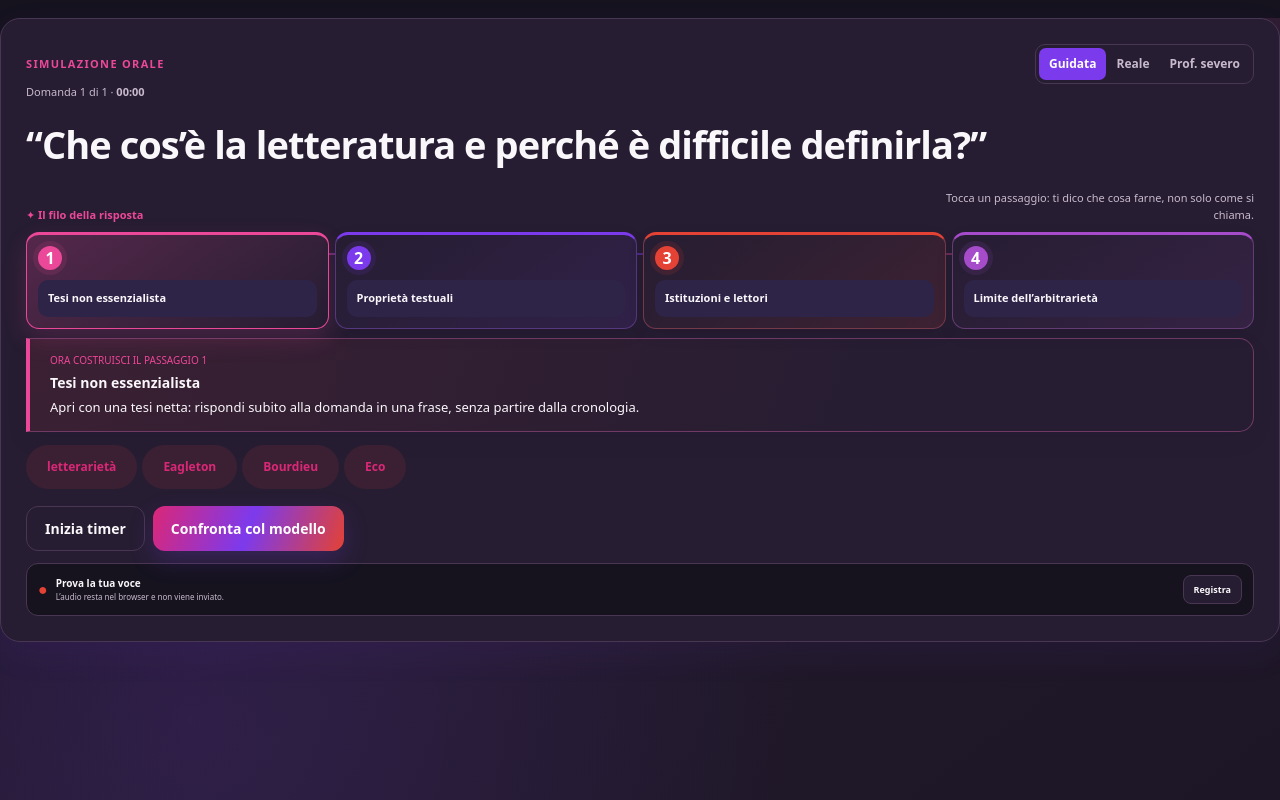
Test: supporti della simulazione orale › spiega le parole fucsia al tap e rende esplorabile la scaletta
The width and height of the screenshot is (1280, 800).
Click the button "letterarietà": point(82, 467) [35, 450, 128, 484]
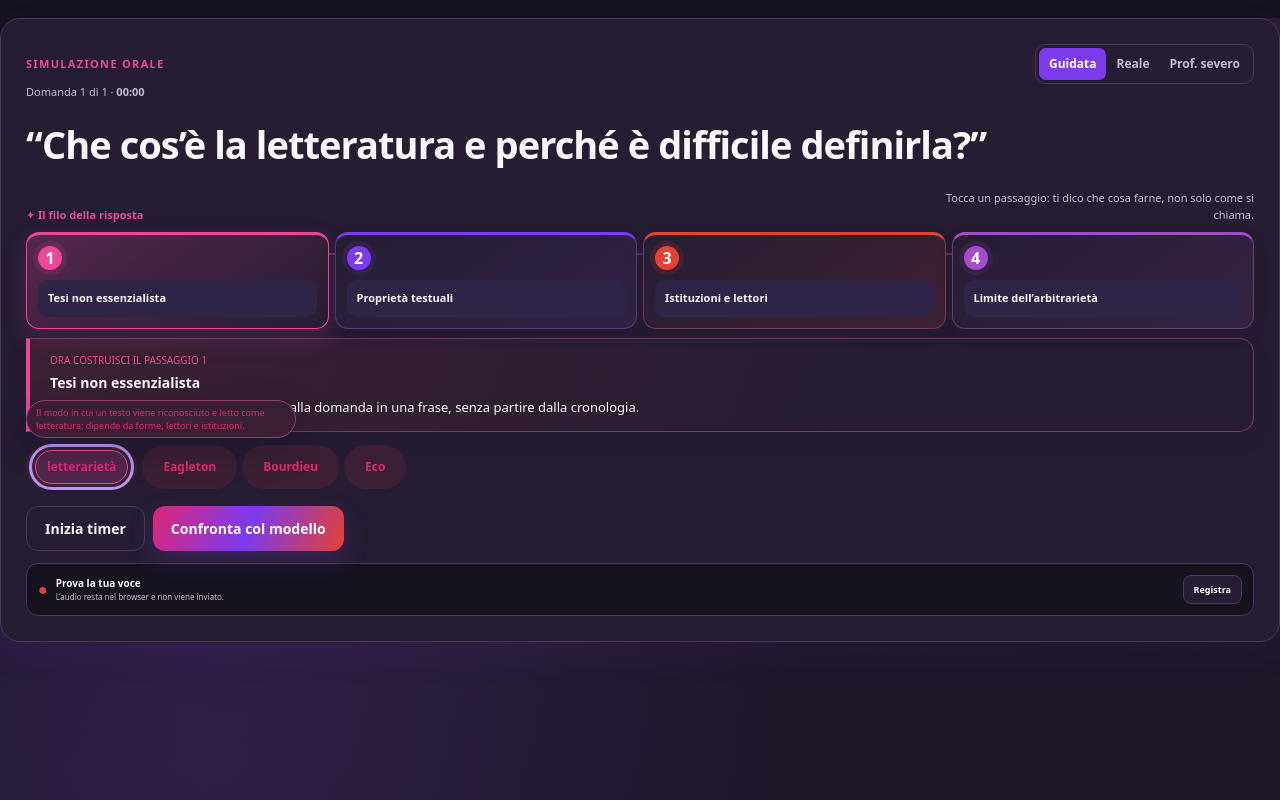
Expected: the button "letterarietà" is expanded, [35, 450, 128, 484]
Expected: the tooltip "riconosciuto e letto come letteratura" is shown, [36, 406, 264, 432]
Click the button "2 Proprietà testuali": point(486, 280) [334, 232, 637, 328]
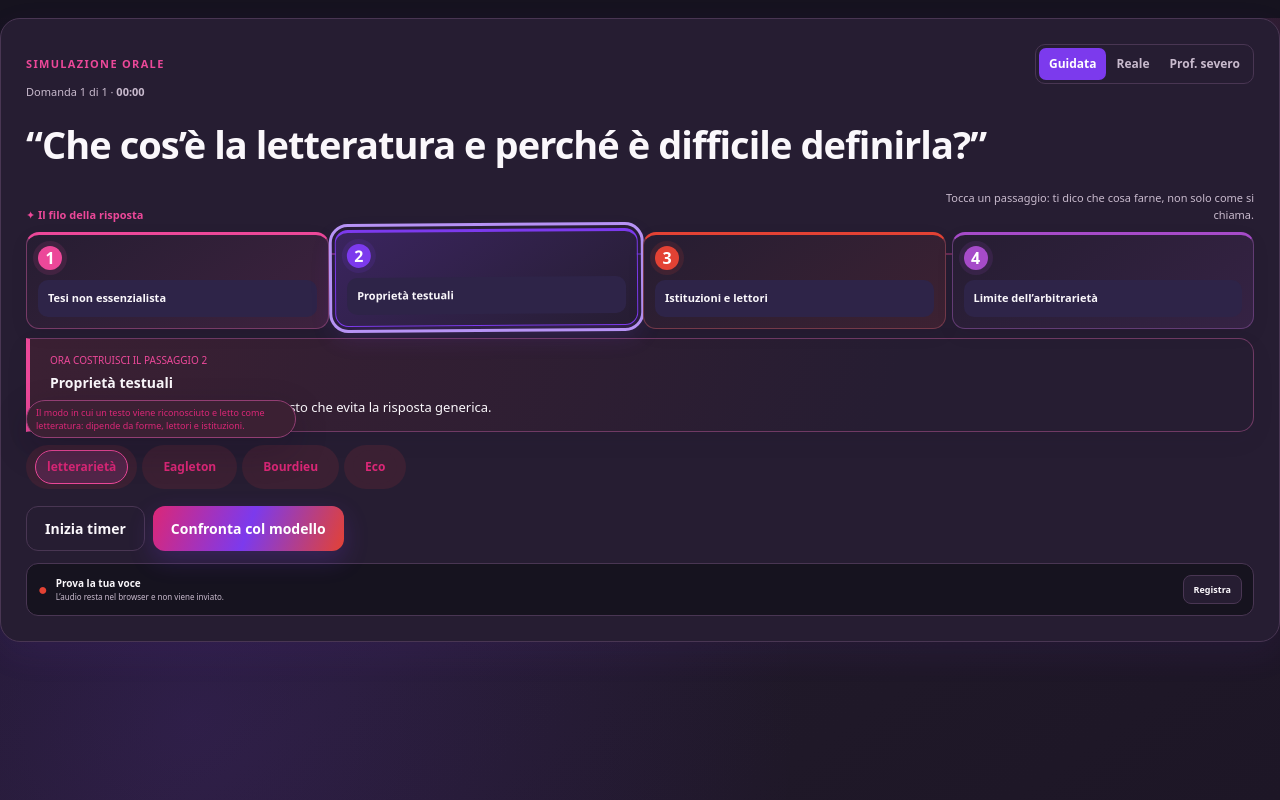
Expected: the text "Ora costruisci il passaggio 2" is shown, [50, 352, 207, 366]
Expected: the text "Definisci il concetto" is shown, [50, 398, 492, 416]
